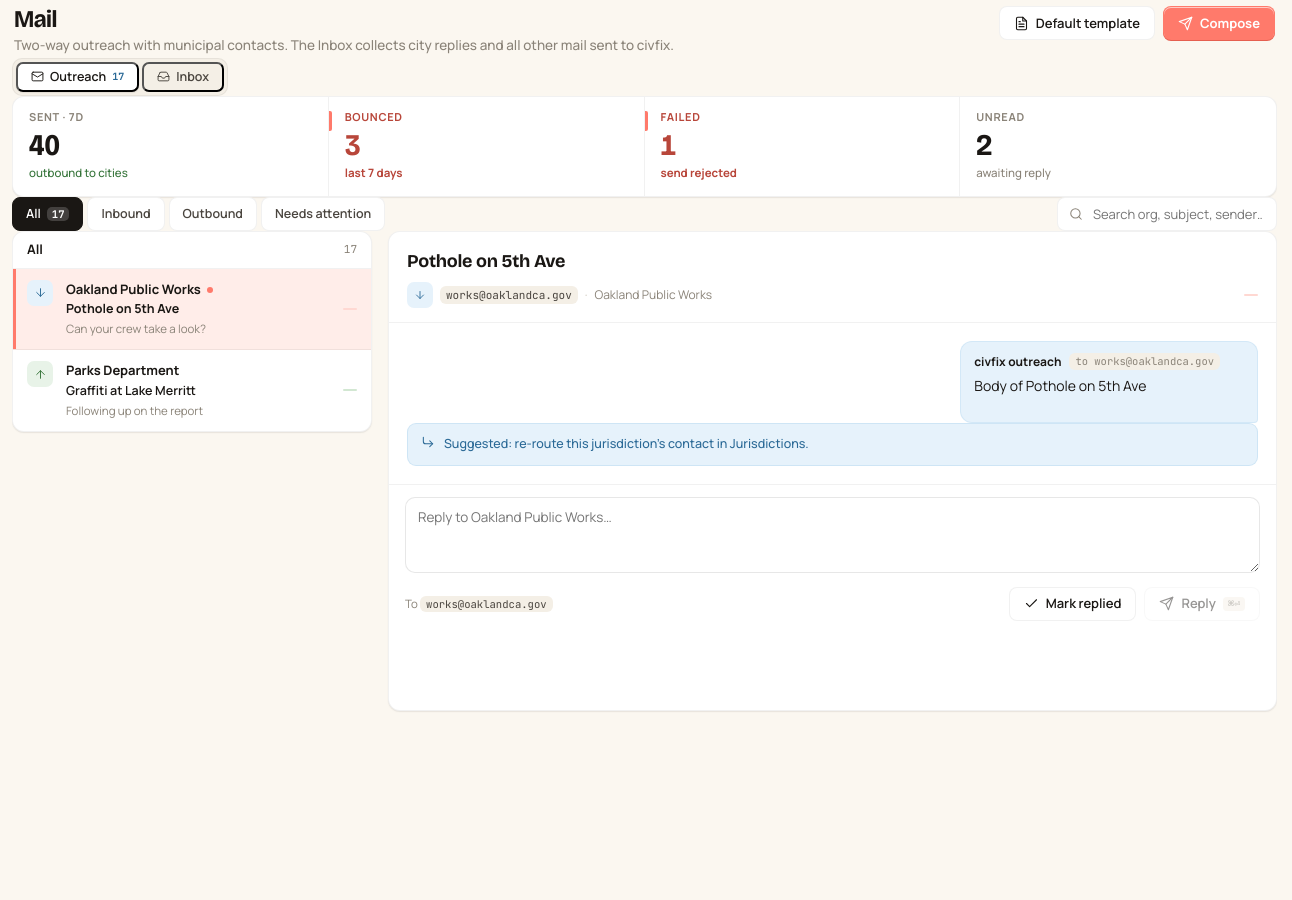
Test: MailPage outreach › opens the clicked thread in the reader
Expected: the text "Body of Pothole on 5th Ave" is shown, [974,376,1146,395]
Click the text "Graffiti at Lake Merritt": (131, 390) [66,382,196,399]
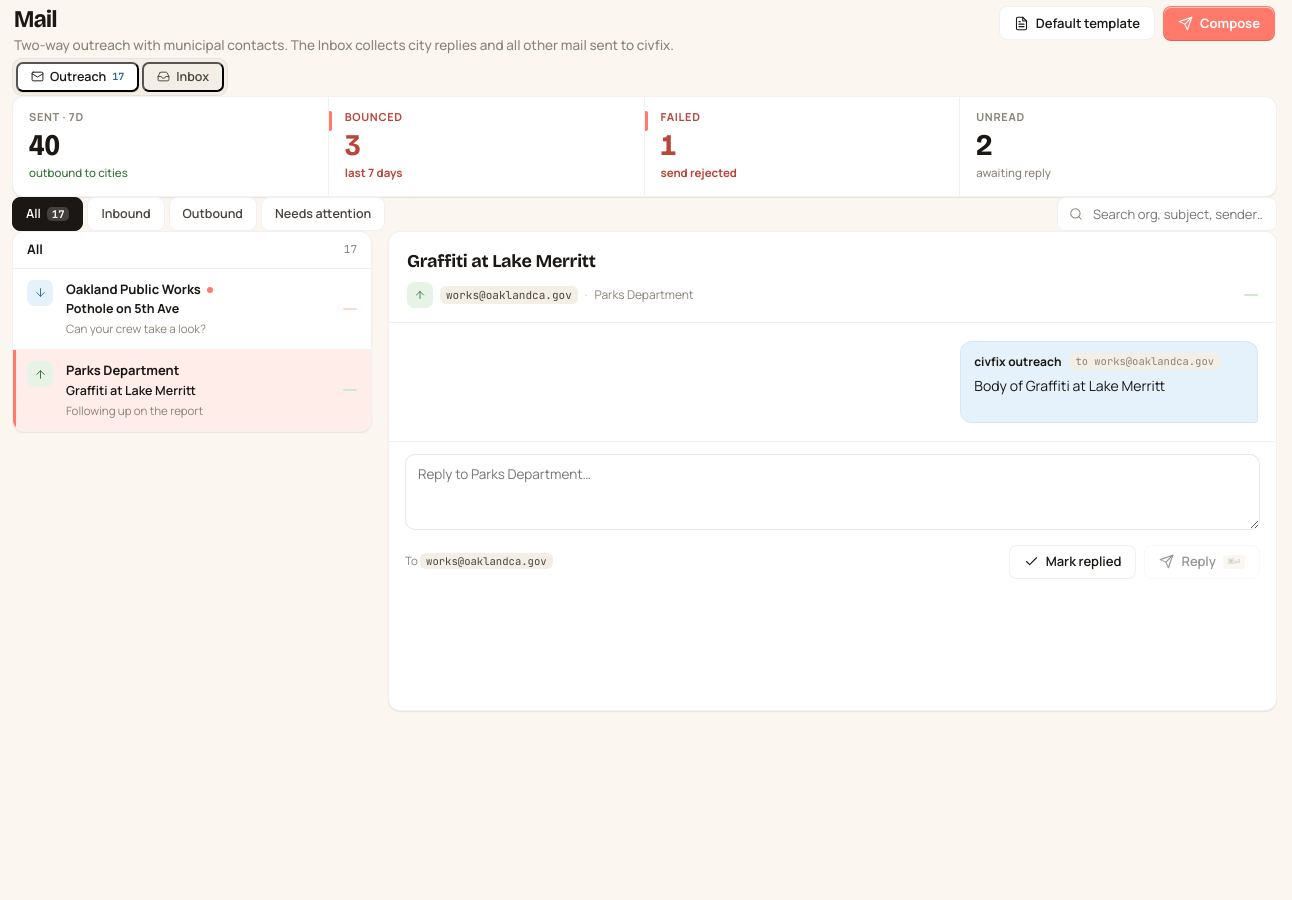
Now the text "Body of Graffiti at Lake Merritt" is shown, box [974,376,1165,395]
Now the text box with placeholder "Reply to Parks Department…" is shown, box [405,454,1260,530]
